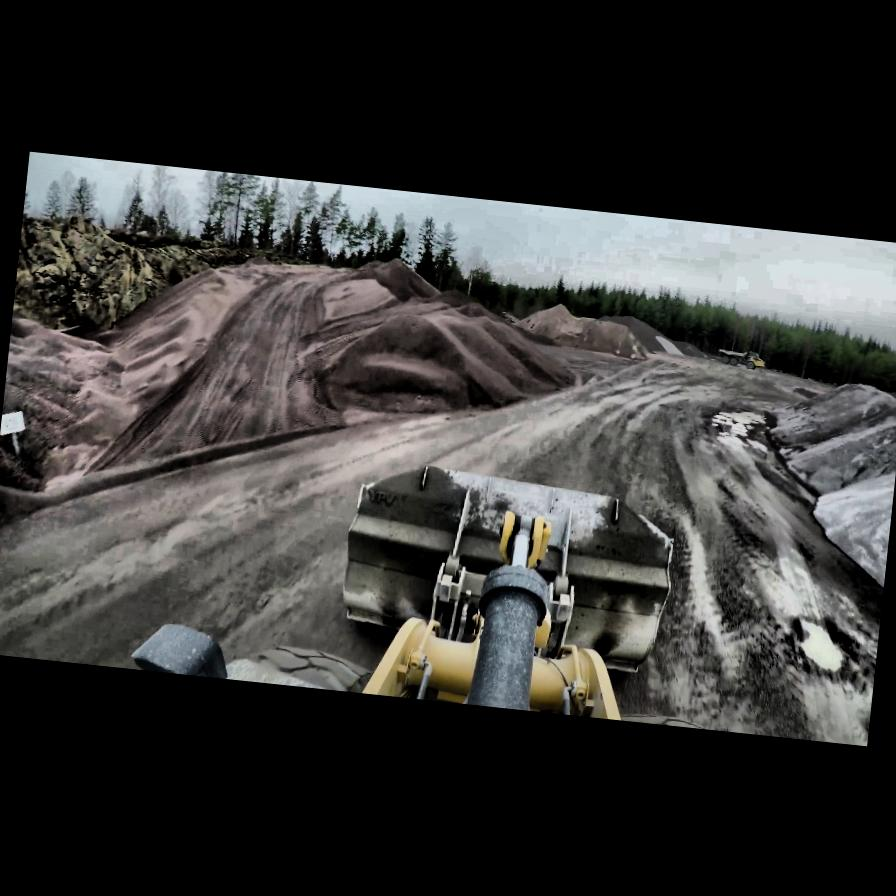anchor: (496, 509, 552, 572)
pile of gravel: (312, 294, 546, 433), (0, 296, 142, 508), (765, 371, 896, 510), (803, 454, 896, 618), (508, 298, 660, 361), (310, 268, 412, 334), (343, 250, 452, 307)
